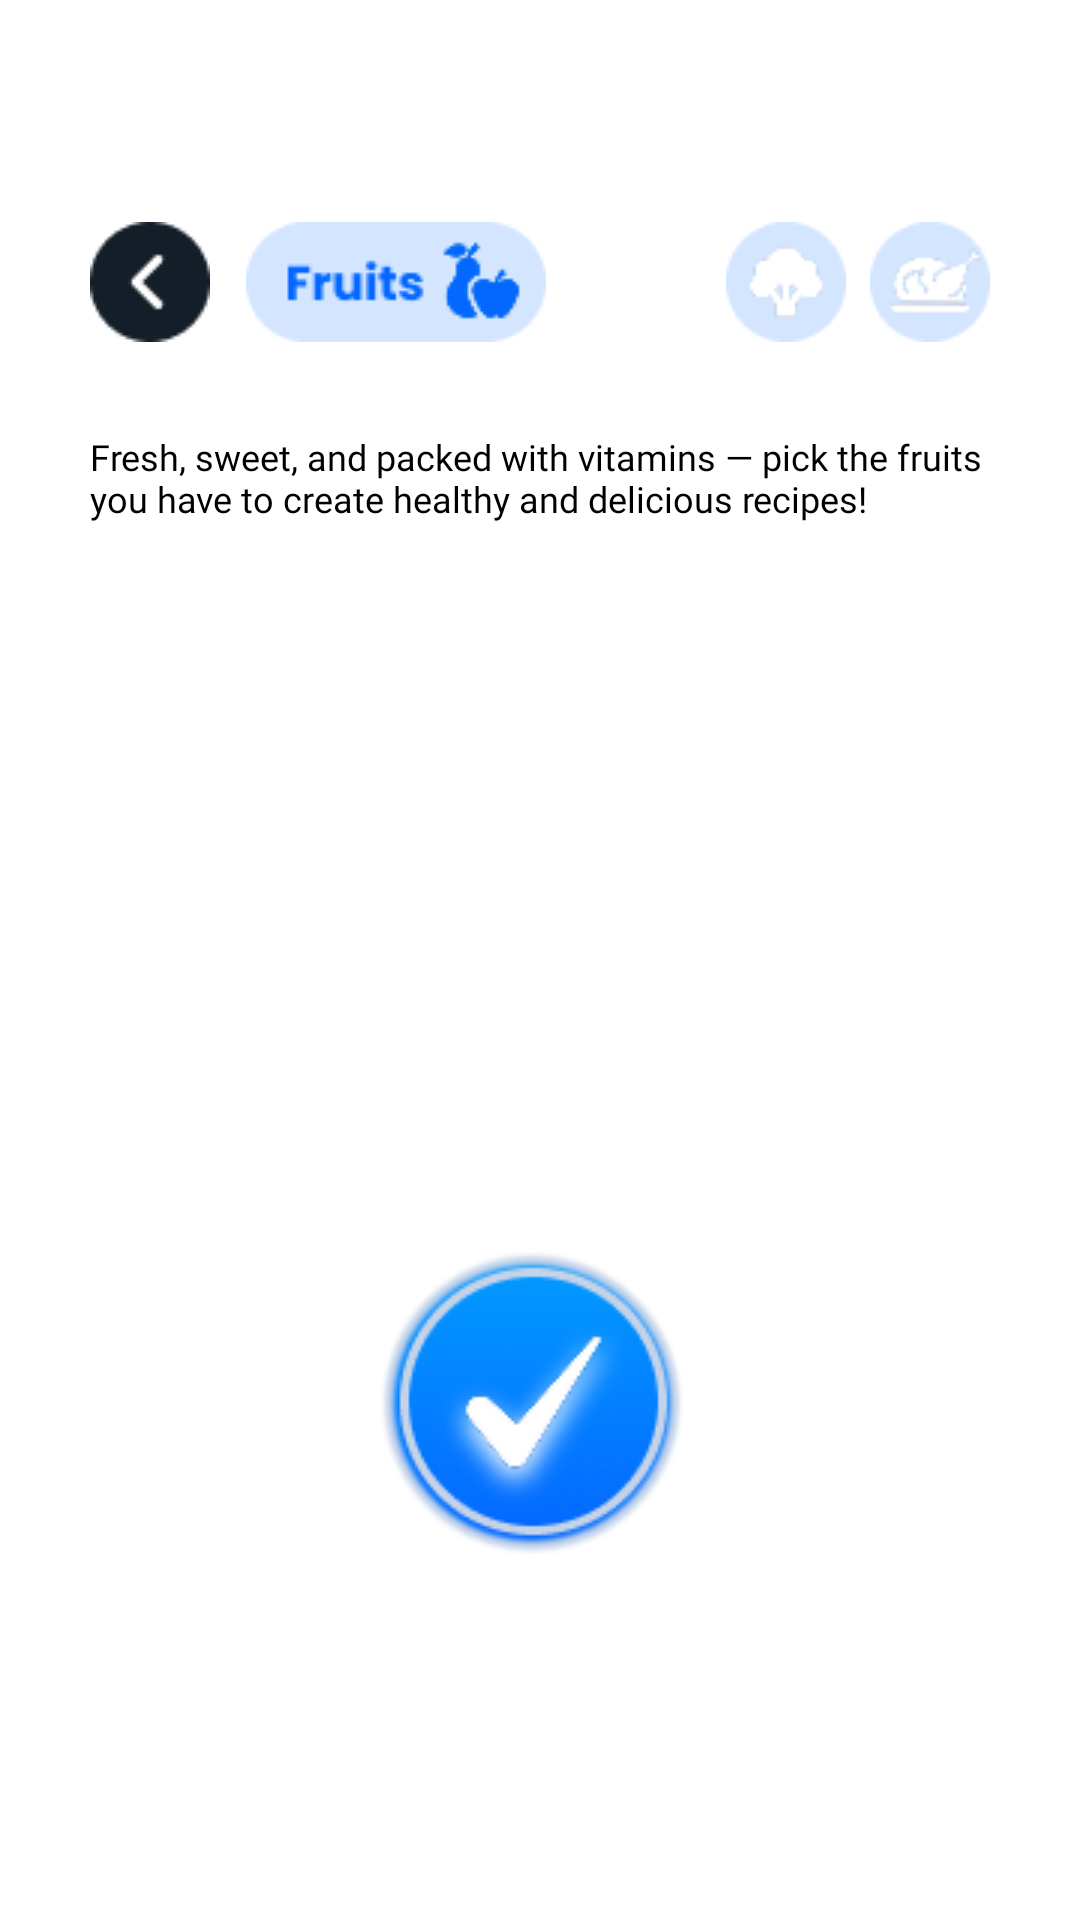

Screen size 1080x1920. Icon name, then its box in pixels as (x1, y1, x2, y2):
confirm selection: (384, 1255, 680, 1551)
next meat: (870, 222, 990, 342)
recipe back: (90, 222, 210, 342)
Vegetables: (726, 222, 846, 342)
